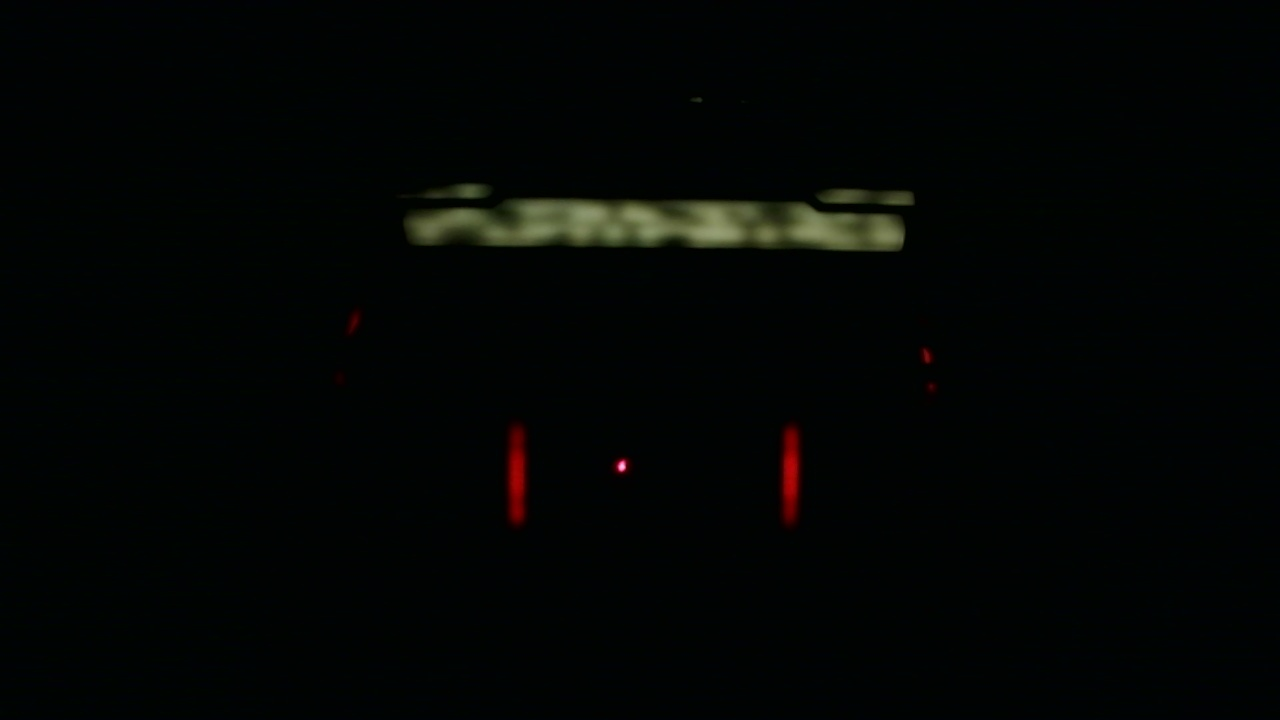lamp: (506, 425, 530, 527), (779, 423, 799, 528)
pair1: (508, 424, 801, 525)
